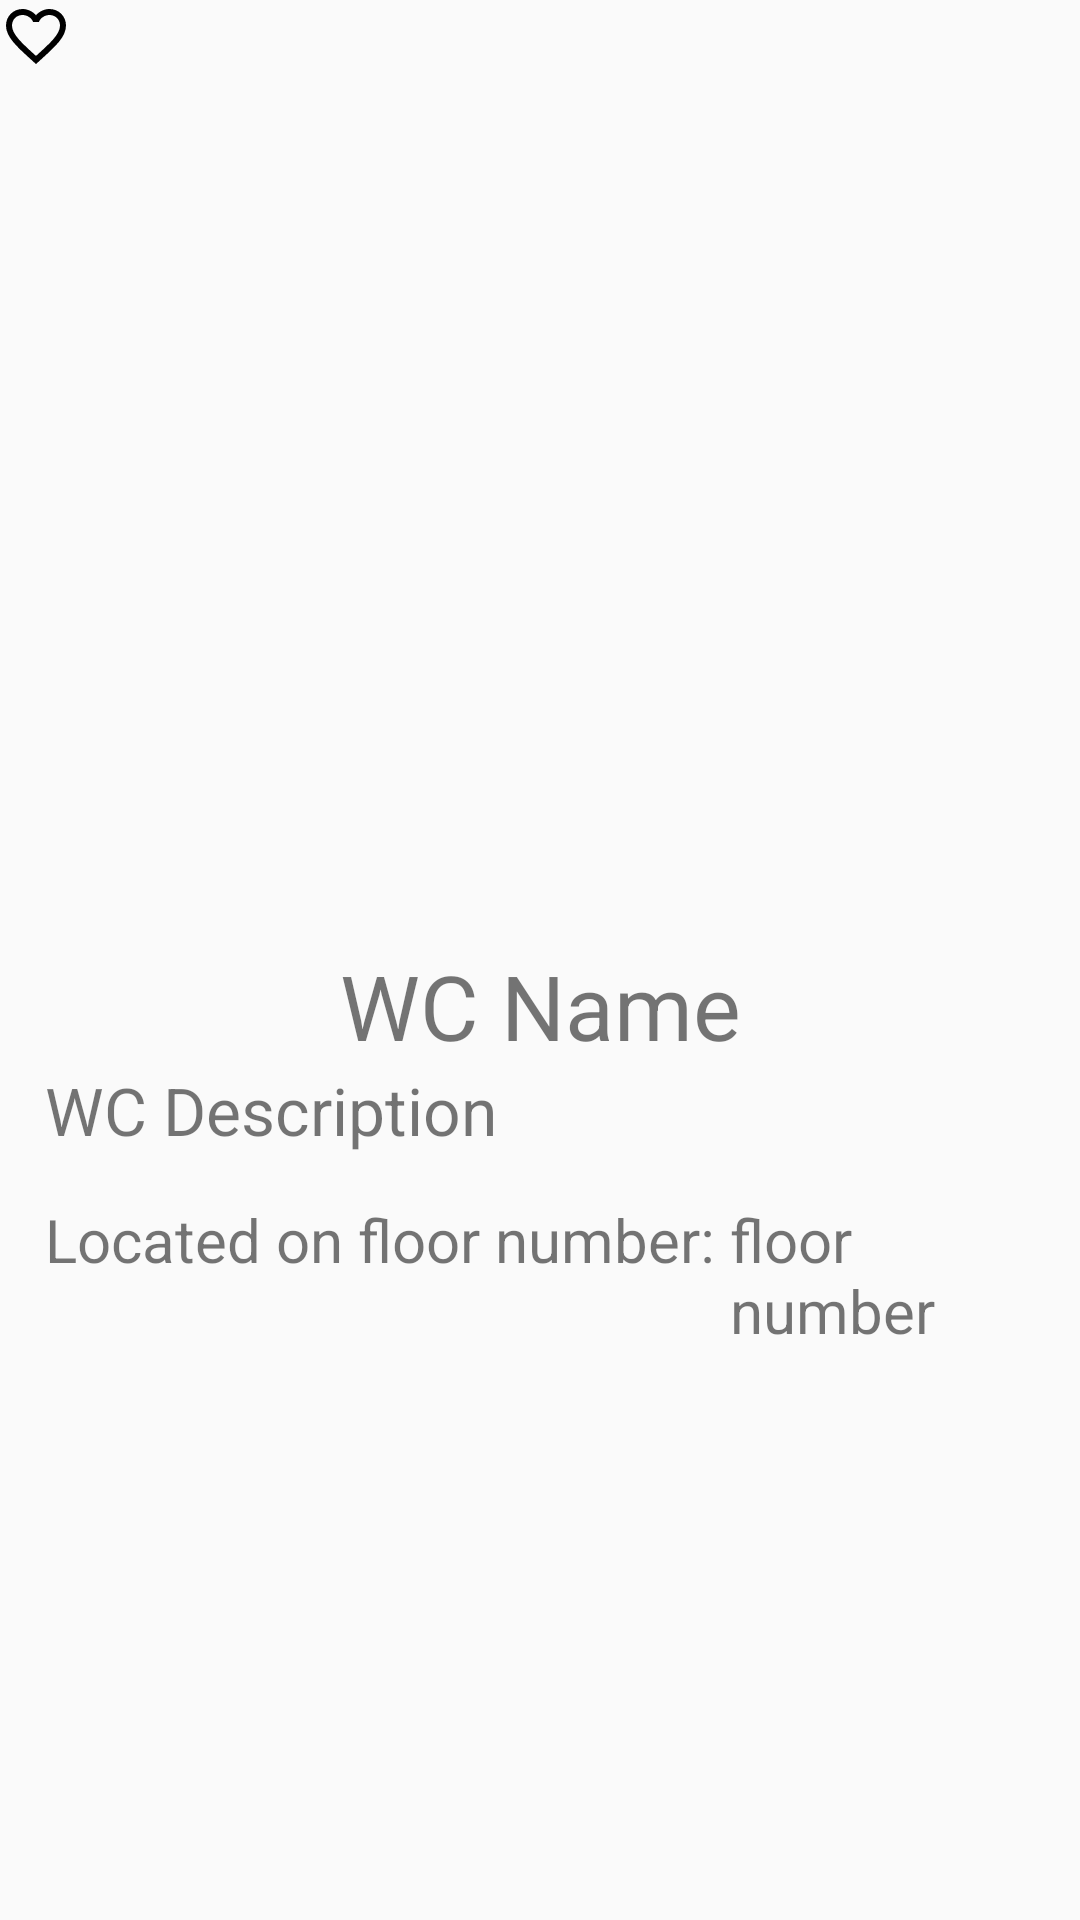

Icons on this 1080×1920 Android screen, each with its box as (x1, y1, x2, y2):
favorite border: (6, 9, 66, 64)
